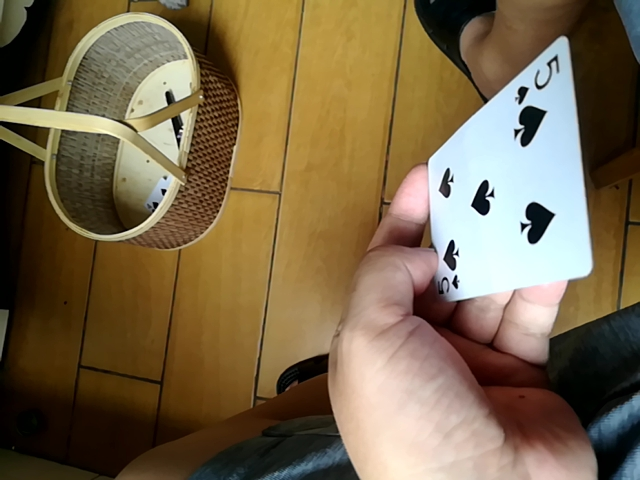ht 5: (416, 40, 596, 315)
